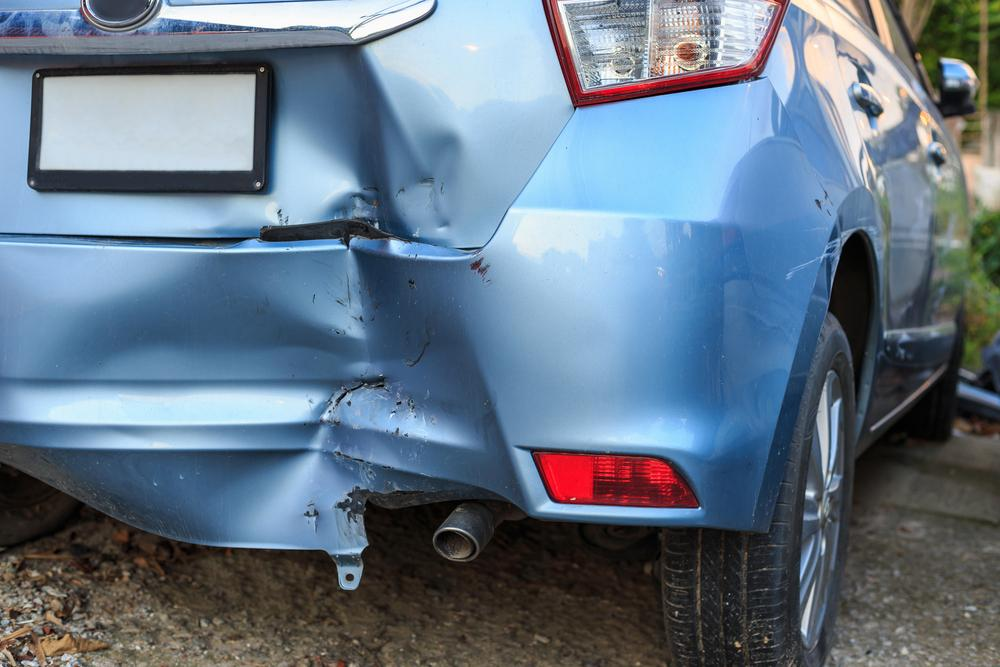dent: (30, 249, 515, 549), (284, 50, 475, 248)
